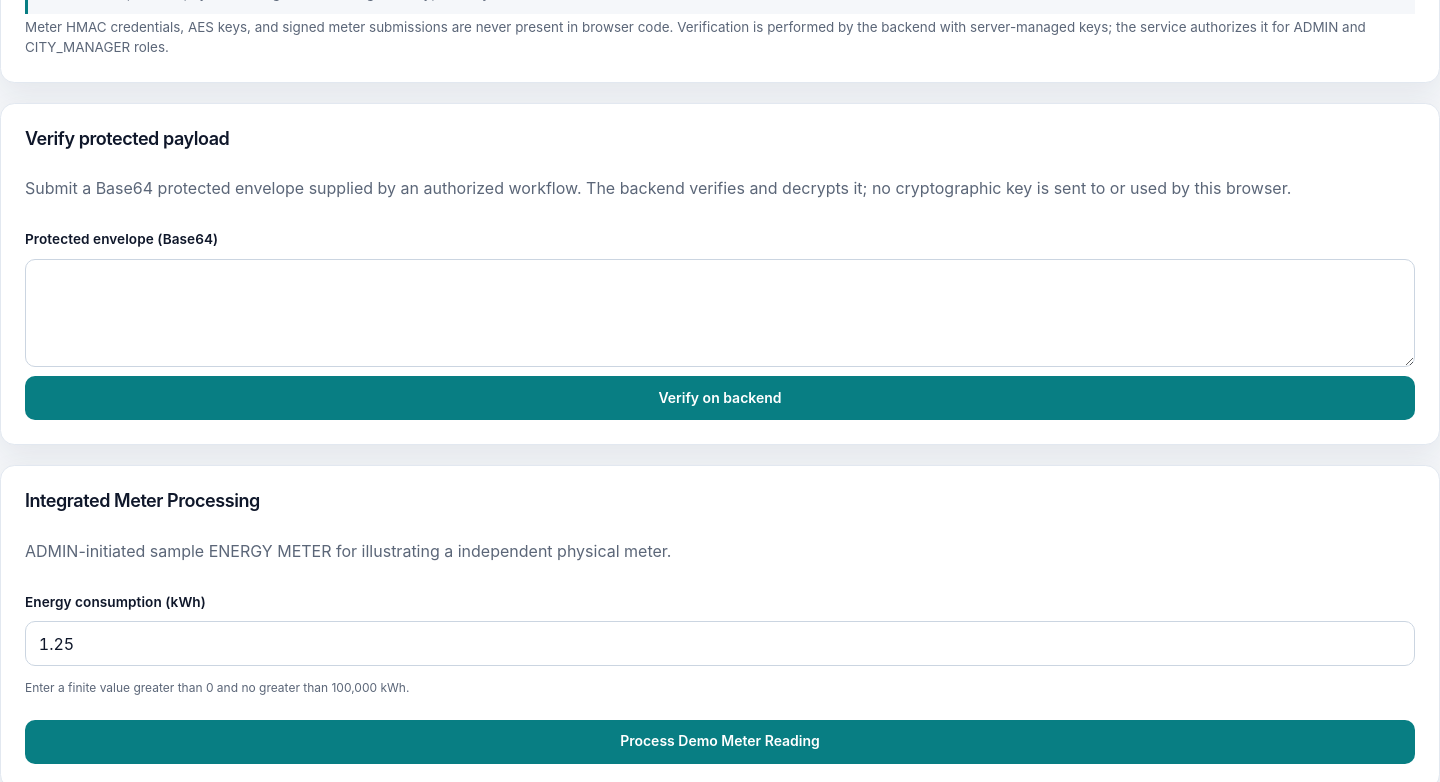
Test: EnergyPage › processes through the integrated endpoint, refreshes history, and recovers the verified GZIP reading
The image size is (1440, 782).
(page scrolled)
Step 1. Click the button "Process Demo Meter Reading" → (720, 742), box left=25, top=720, right=1415, bottom=764
(page scrolled)
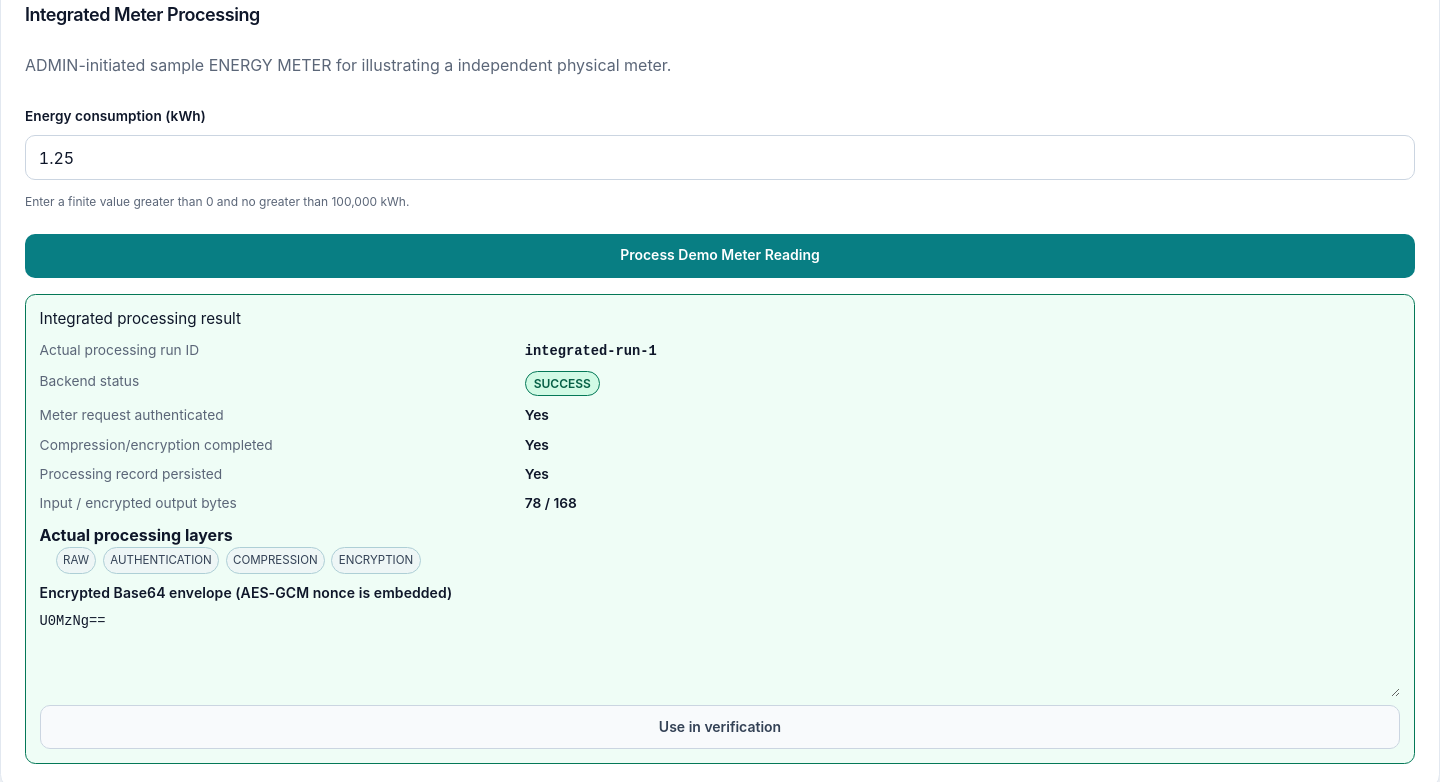
expect the text "Meter request authenticated" is shown: met, box left=40, top=407, right=224, bottom=423
Step 2. Click the button "Use in verification" → (720, 727), box left=40, top=705, right=1400, bottom=749
(page scrolled)
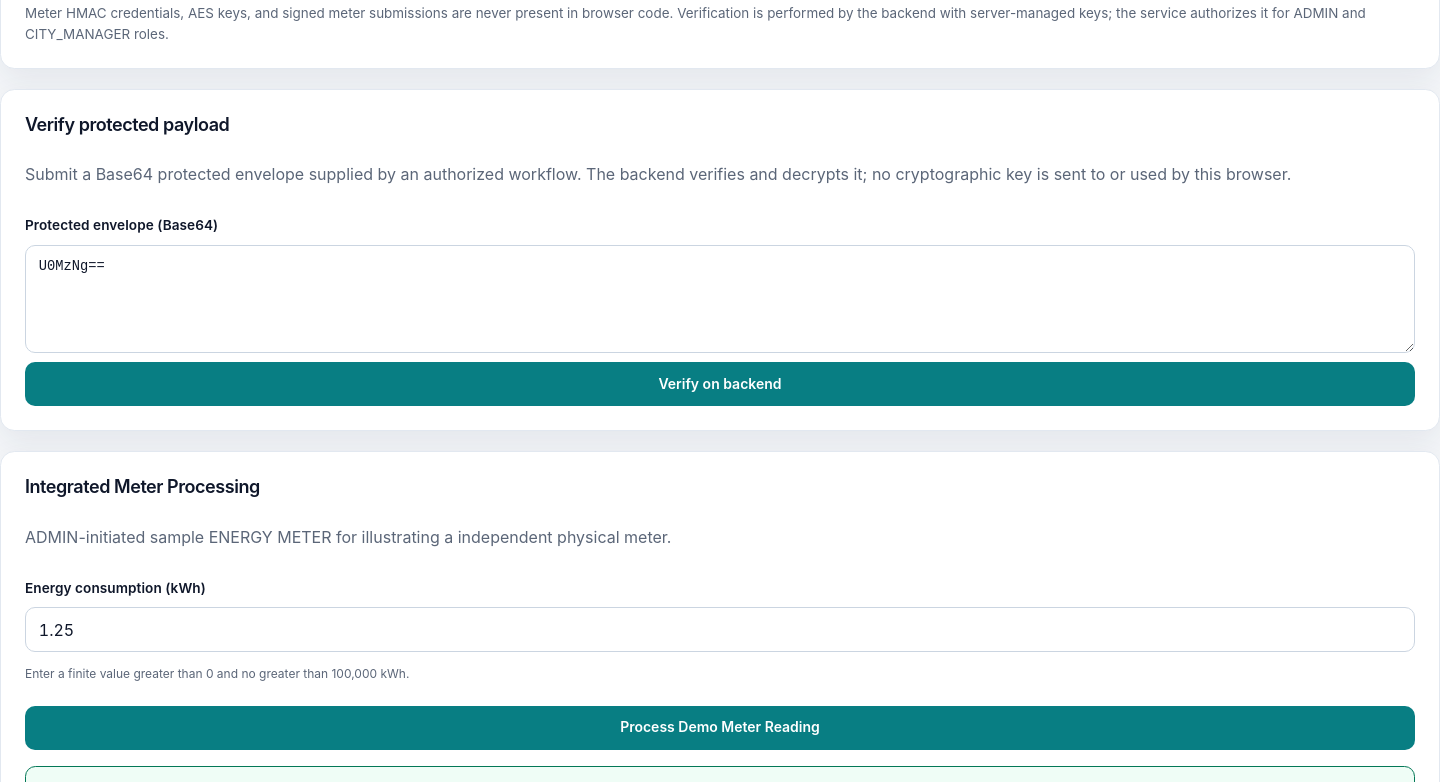
expect the text box labelled "Protected envelope (Base64)" holds "U0MzNg==": met, box left=25, top=245, right=1415, bottom=353
Step 3. Click the button "Verify on backend" → (720, 384), box left=25, top=362, right=1415, bottom=406
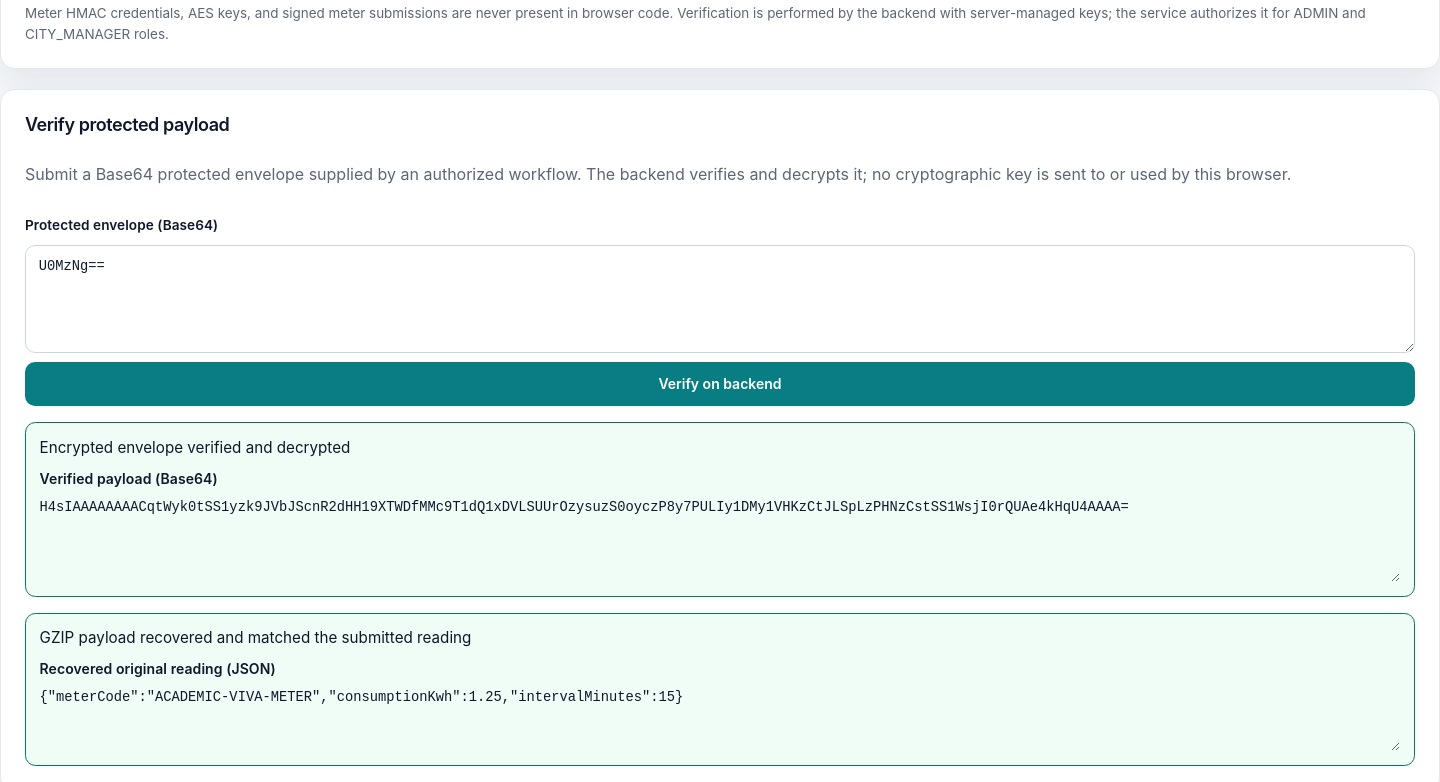
expect the heading "GZIP payload recovered and matched the submitted reading" is shown: met, box left=40, top=628, right=471, bottom=647
expect the text box labelled "Recovered original reading (JSON)" holds "{\"meterCode\":\"ACADEMIC-VIVA-METER\",\"consumptionKwh\":1.25,\"intervalMinutes\":15}": met, box left=40, top=687, right=1400, bottom=751
